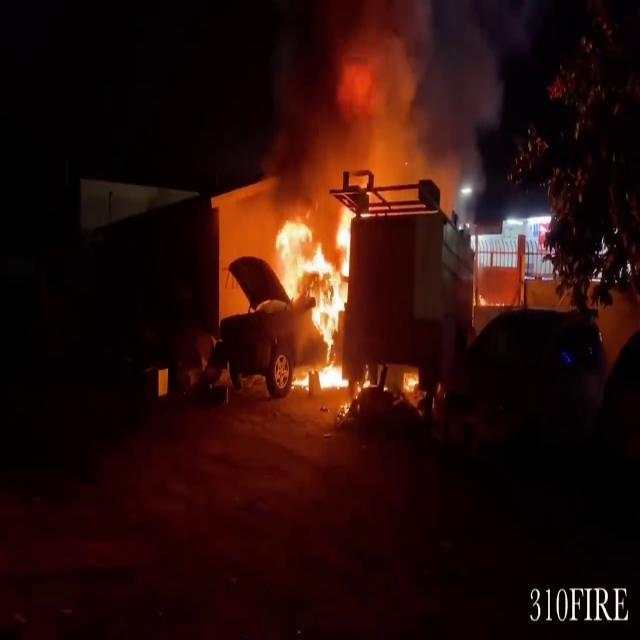Fire: (272, 198, 362, 394)
Smoke: (254, 0, 506, 202)
